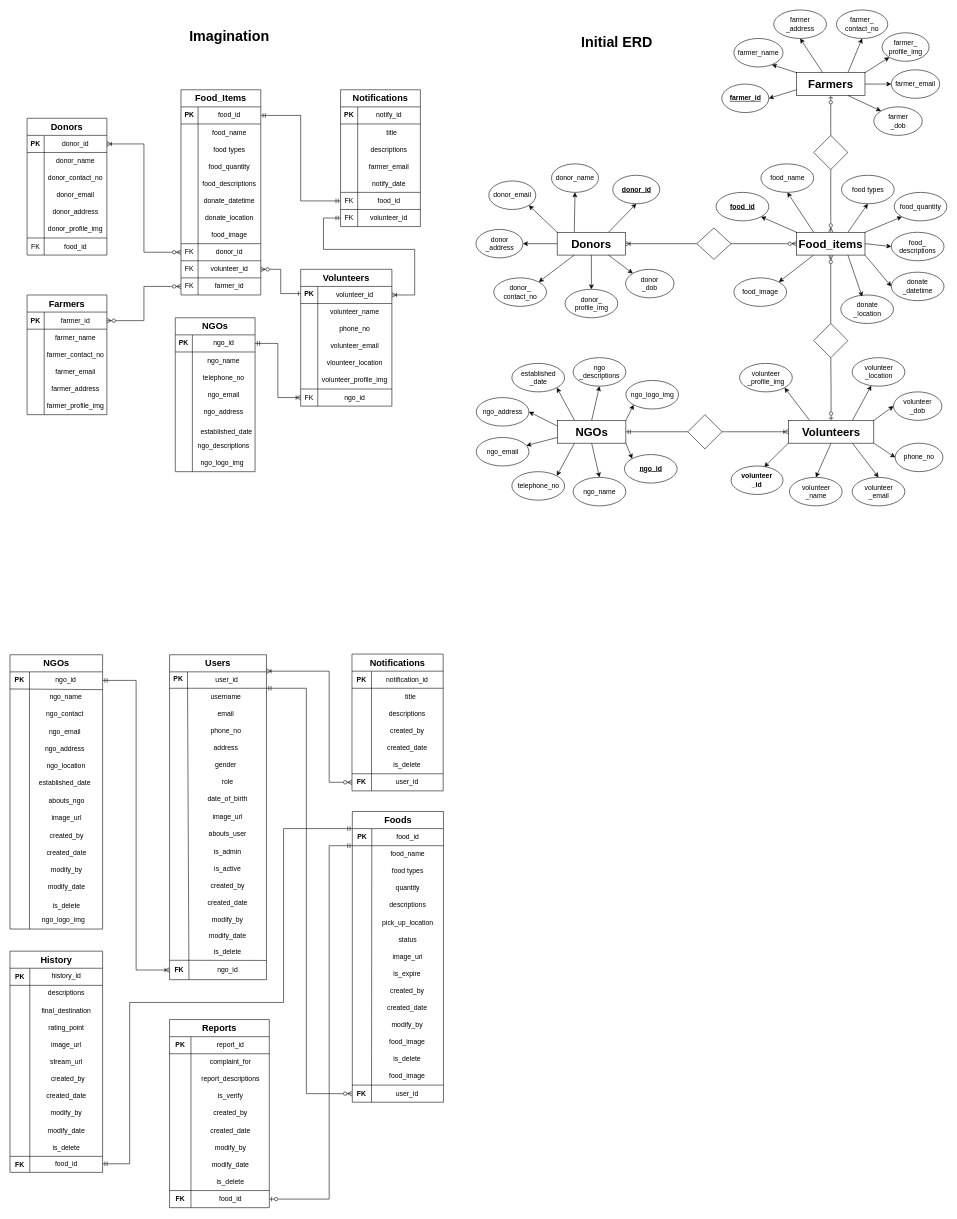
Some shapes in this 957 by 1219 pixel diagram are drawn without their labels. Each missing label, with the centre of its shape:
"deliver" belongs at pixel 830 340.
"donate" belongs at pixel 713 243.
"have" belongs at pixel 704 431.
"receive" belongs at pixel 830 152.
